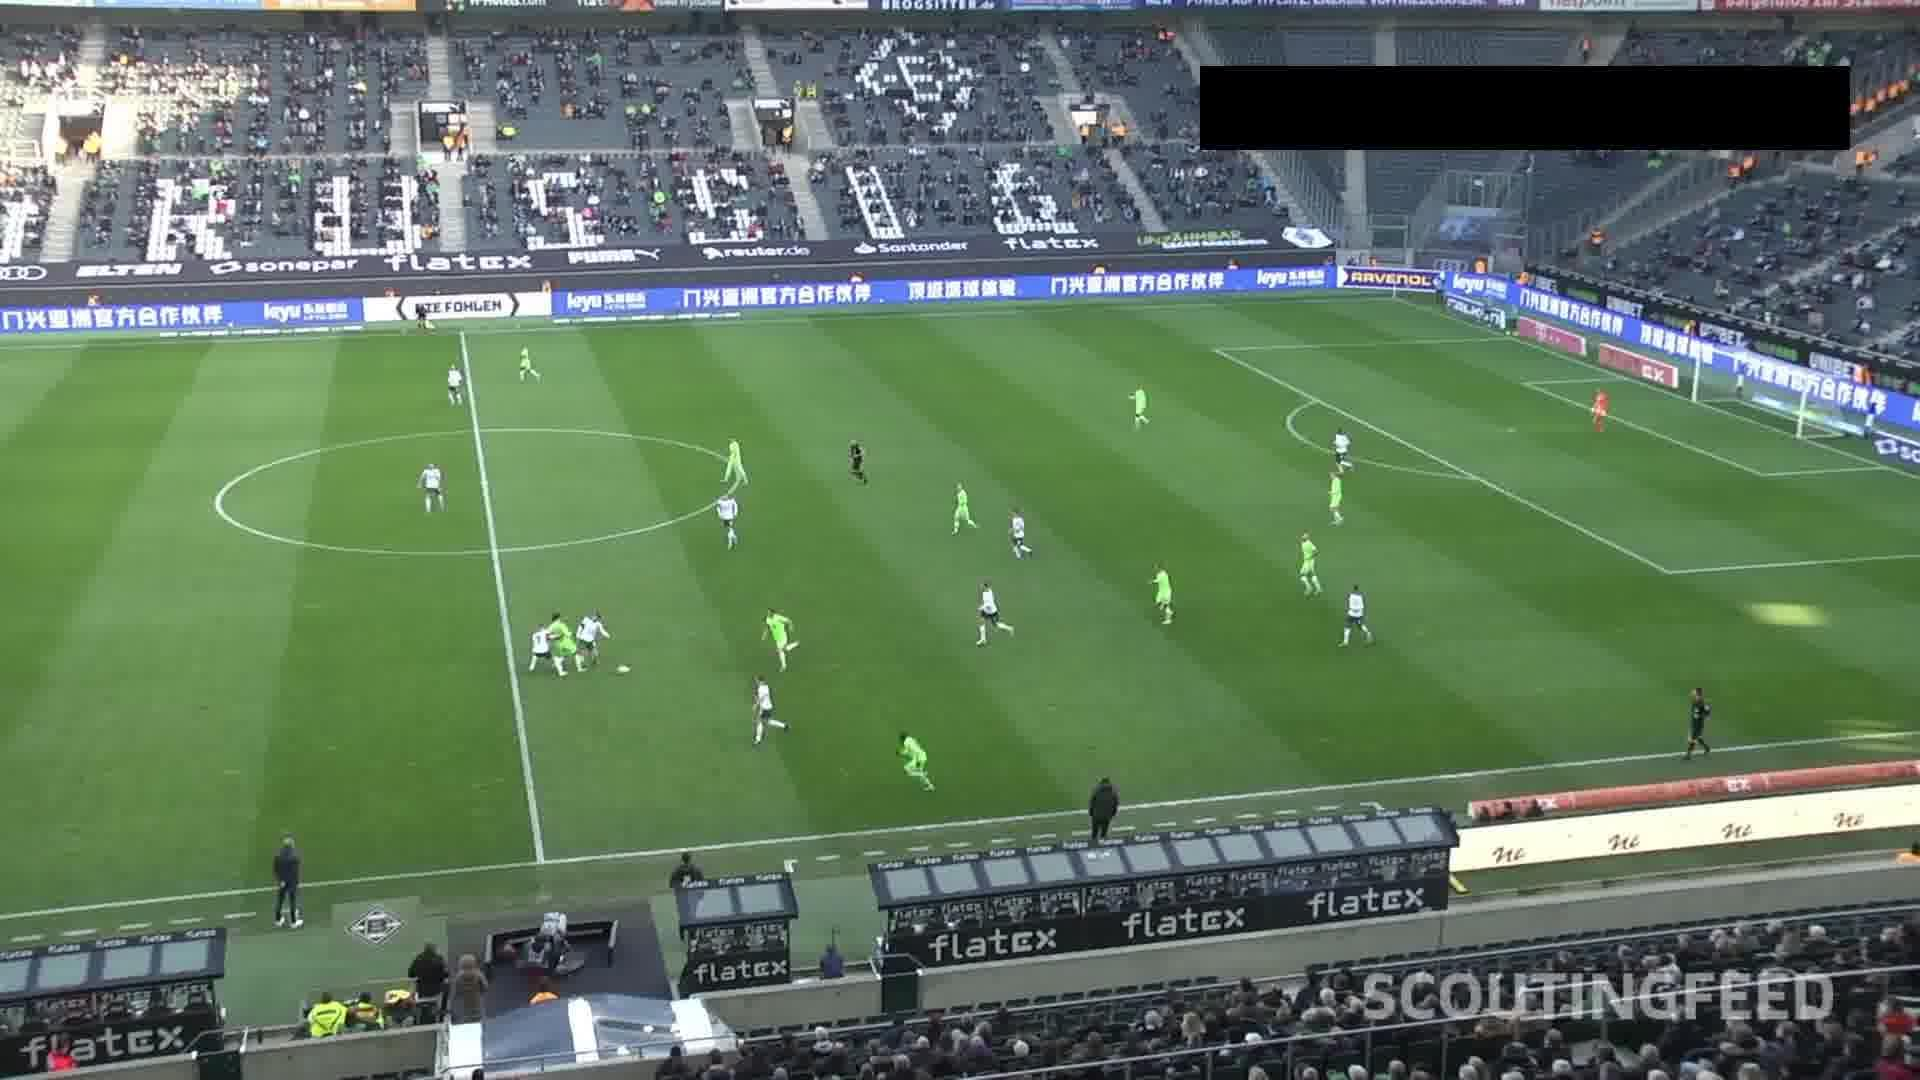football: (617, 663, 632, 675)
